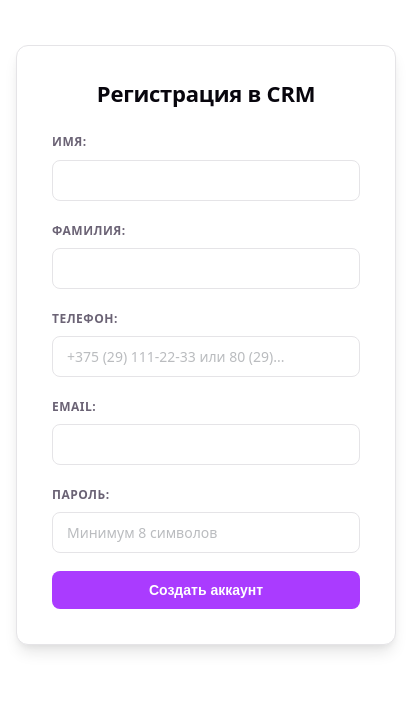
SignUpPage - Юнит-тесты бизнес-логики (Vitest) › 1. Должен показать ошибку, если пароль меньше 8 символов
The image size is (413, 721).
Type "Иван" into the field labelled "Имя:" at (206,180), box [52, 160, 360, 201]
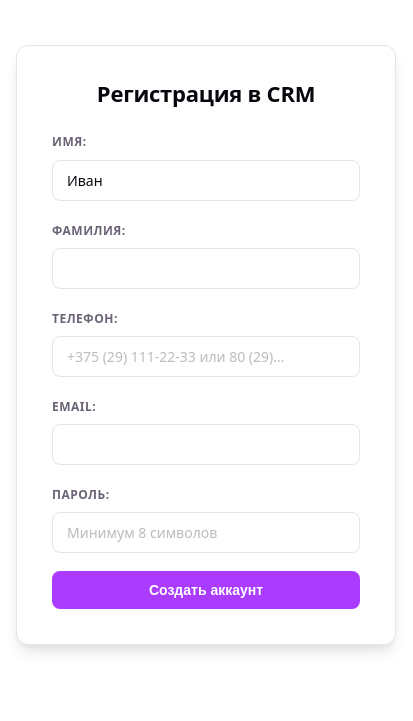
Type "Иванов" into the field labelled "Фамилия:" at (206,268), box [52, 248, 360, 289]
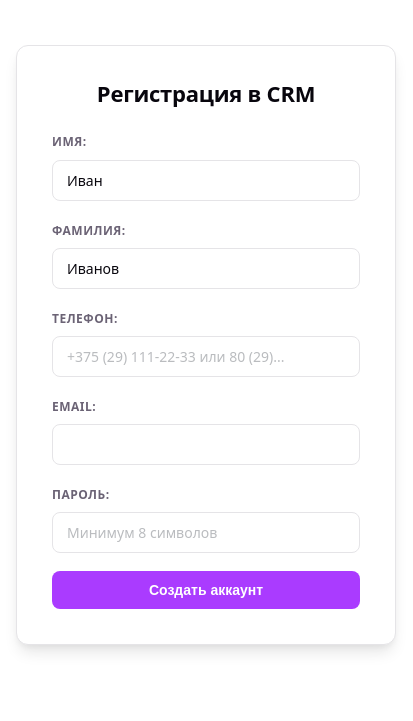
Type "+375291112233" into the field labelled "Телефон:" at (206,357), box [52, 336, 360, 377]
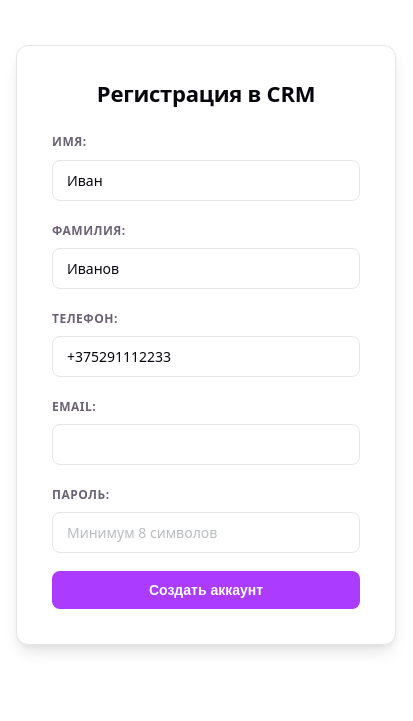
Type "test@example.com" into the field labelled "Email:" at (206,445), box [52, 424, 360, 465]
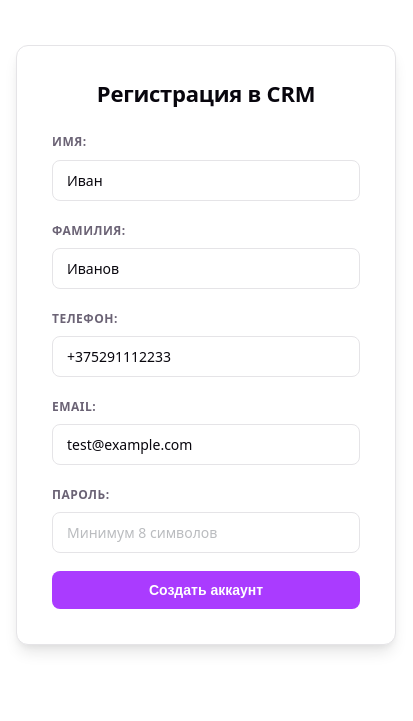
Type "123" into the password field labelled "Пароль:" at (206,533), box [52, 512, 360, 554]
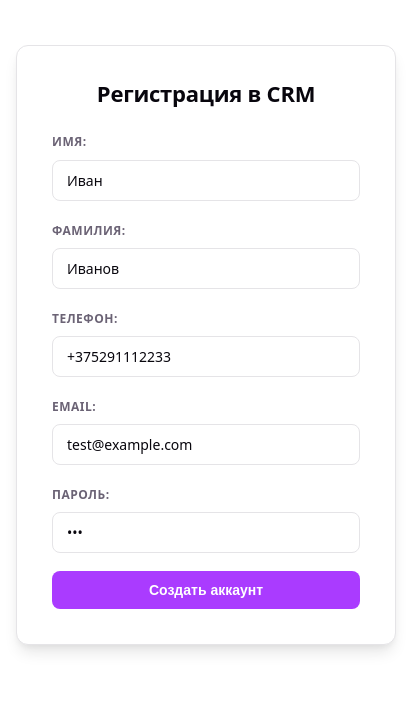
Click the button "Создать аккаунт" at (206,590), box [52, 572, 360, 610]
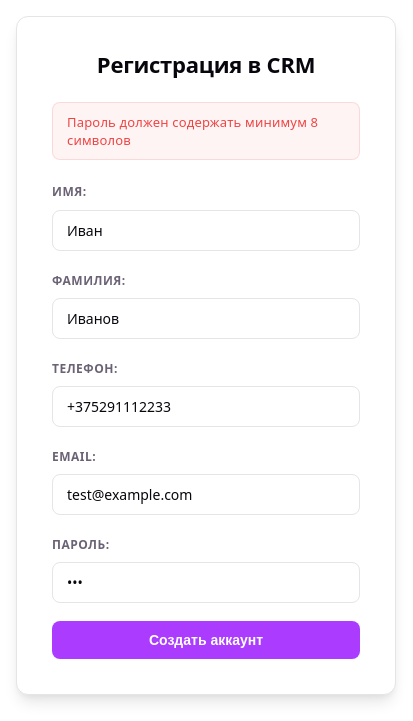
Expected: the text "Пароль должен содержать минимум 8 символов" is shown, [52, 102, 360, 160]
